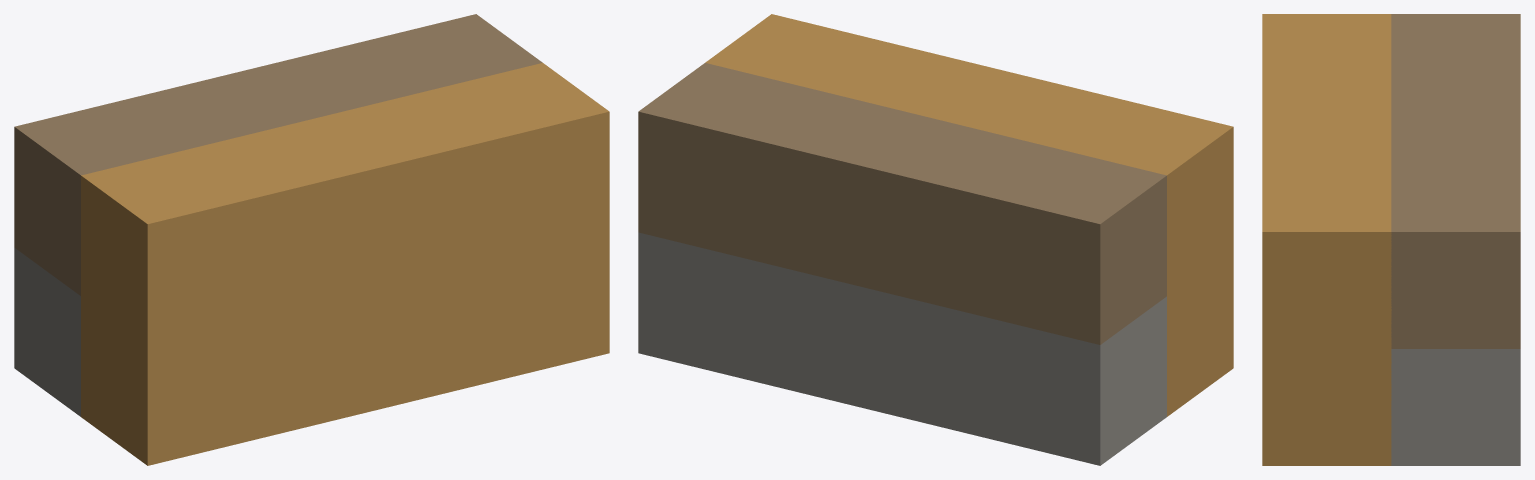
Rendered from tijeras_podar_cobre_01.glb.
3 views of the same model, side by side, from view 1: azimuth 30°, elevation 25°; view 2: azimuth 150°, elevation 25°; view 3: azimuth 270°, elevation 25° (orthographic). The views are drawn at different scales.
Parts seen in each view (by area): view 1: tijeras_podar_cobre; view 2: tijeras_podar_cobre; view 3: tijeras_podar_cobre.
Part boxes in pixels (x1=…): tijeras_podar_cobre: x1=14, y1=14, x2=609, y2=465; tijeras_podar_cobre: x1=638, y1=14, x2=1233, y2=465; tijeras_podar_cobre: x1=1262, y1=14, x2=1520, y2=465.
Bounding box in the file's own units: 0.4 × 0.2 × 0.2.
